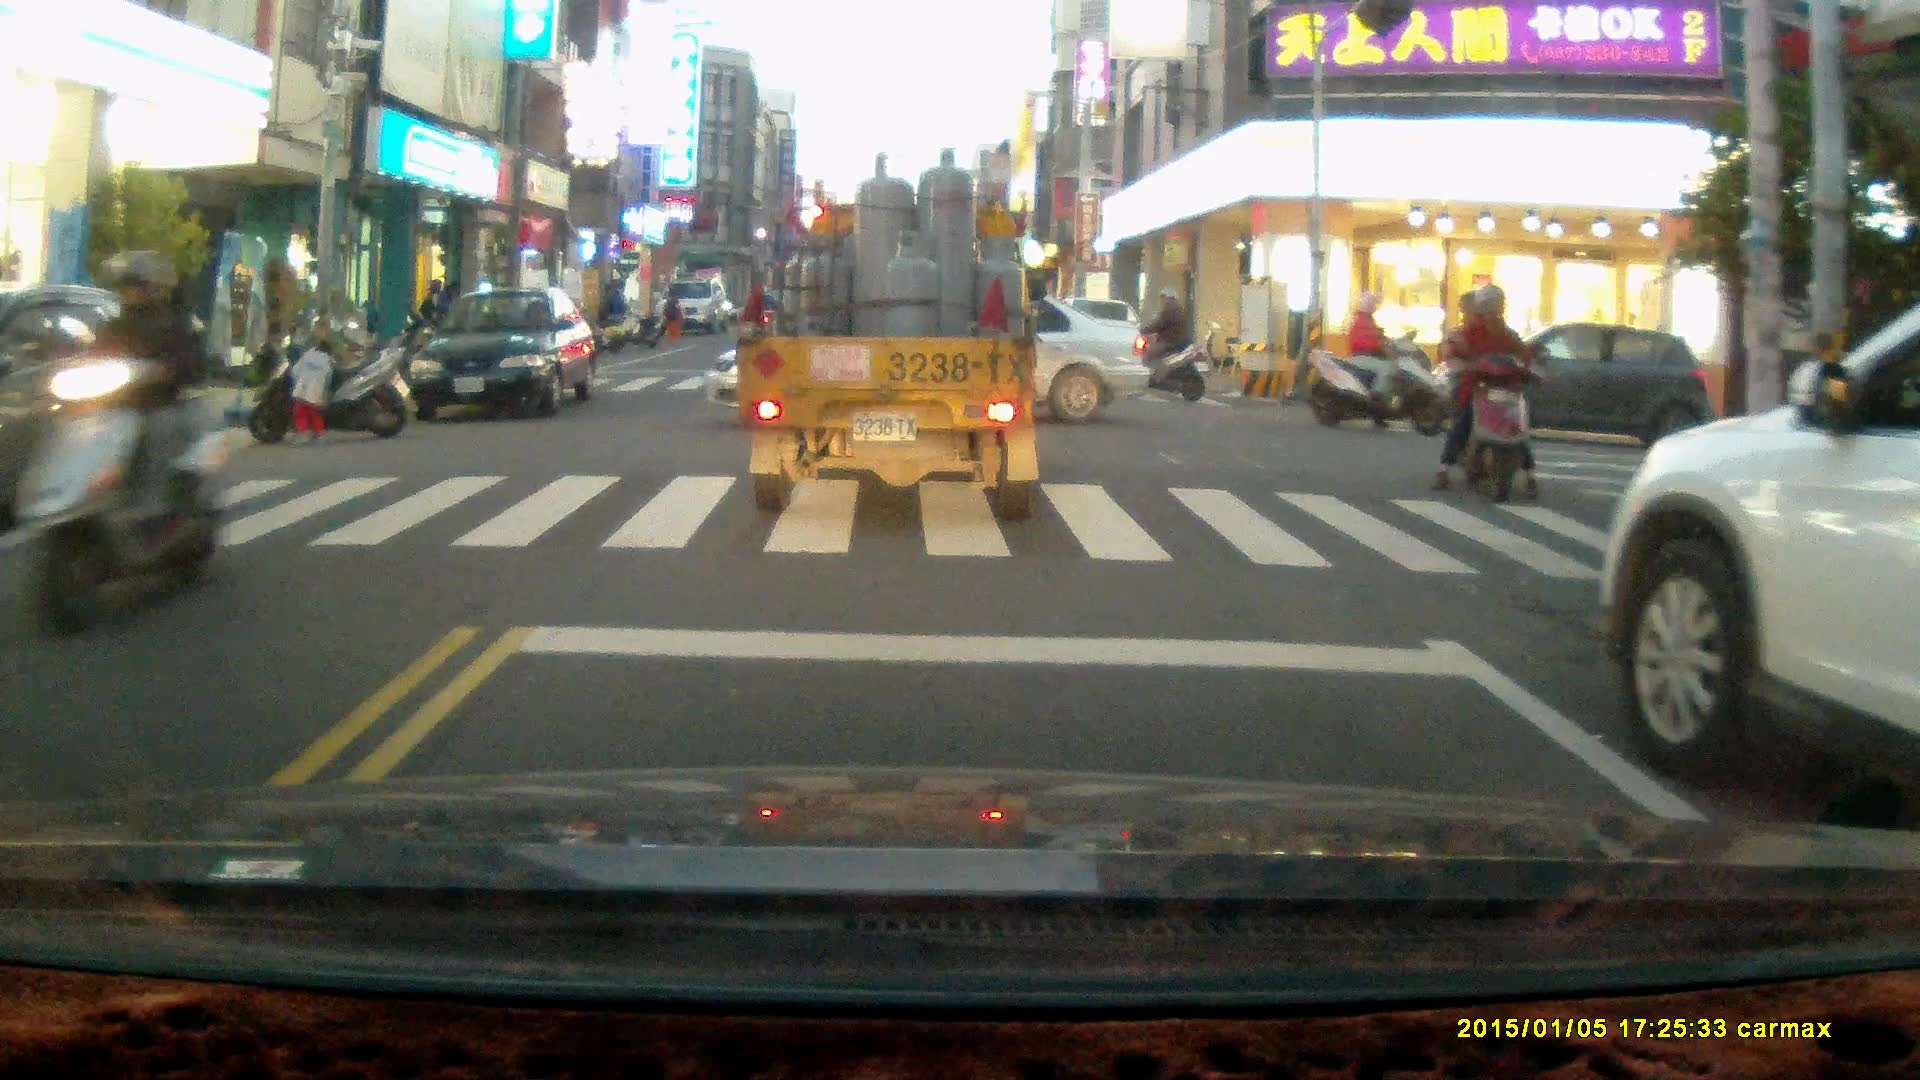pedestrian: (287, 340, 335, 448), (603, 279, 630, 342), (662, 287, 685, 345)
rider: (15, 250, 226, 643), (1432, 285, 1548, 507), (1303, 295, 1442, 434), (1112, 284, 1207, 404)
vehicle: (1592, 304, 1920, 803), (737, 144, 1042, 526), (1441, 324, 1716, 442), (407, 291, 600, 420), (657, 281, 730, 335)
